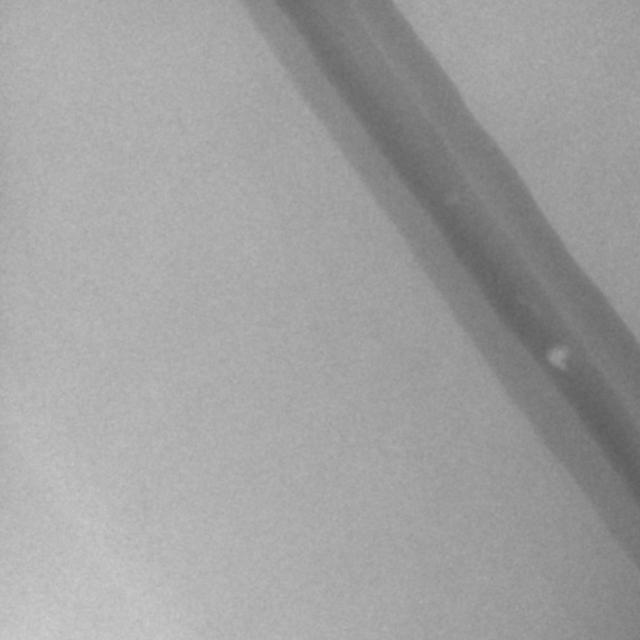slag inclusion: (546, 346, 568, 371)
